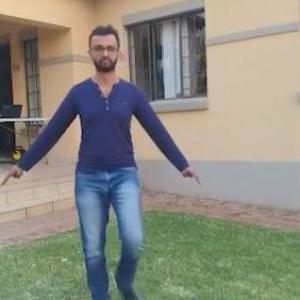land: (5, 19, 211, 299)
